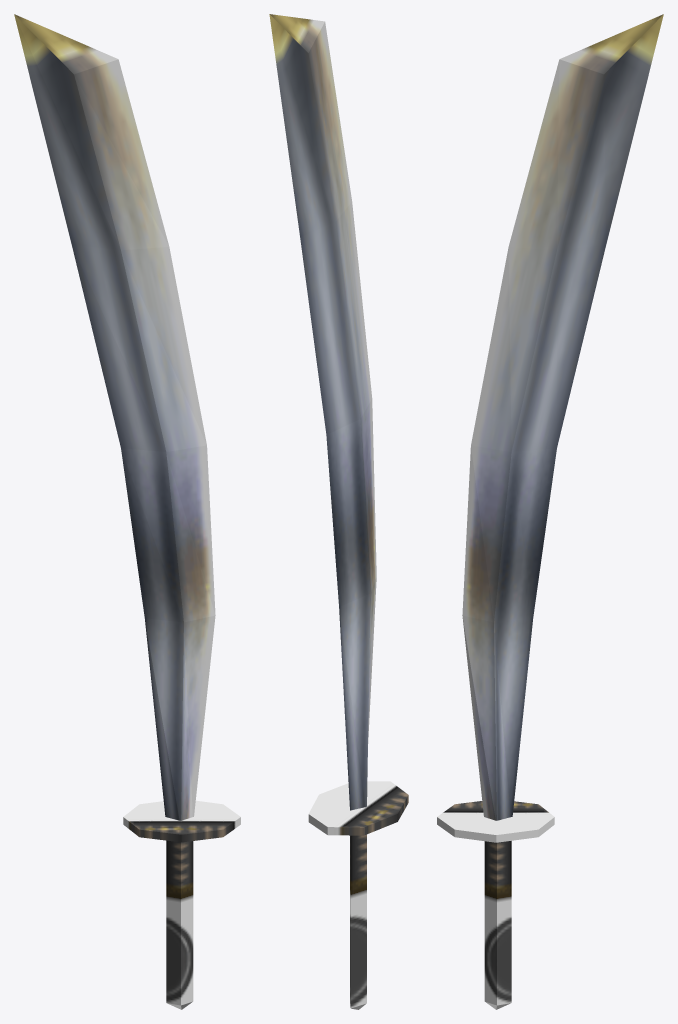
File: heavybladev02.obj
3 renders of one model, left to right at view 1: azimuth 90°, elevation 25°; view 2: azimuth 150°, elevation 25°; view 3: azimuth 270°, elevation 25°, orthographic. The views are drawn at different scales.
Parts seen in each view (by area): view 1: MDL_cw2hkt02; view 2: MDL_cw2hkt02; view 3: MDL_cw2hkt02.
Boxes of the visible parts, x1,y1,x2,y2 form: MDL_cw2hkt02: [14, 14, 240, 1009]; MDL_cw2hkt02: [269, 14, 408, 1009]; MDL_cw2hkt02: [437, 14, 663, 1009].
Size of the model in its own units: 0.1388 by 1.79 by 0.3688.
